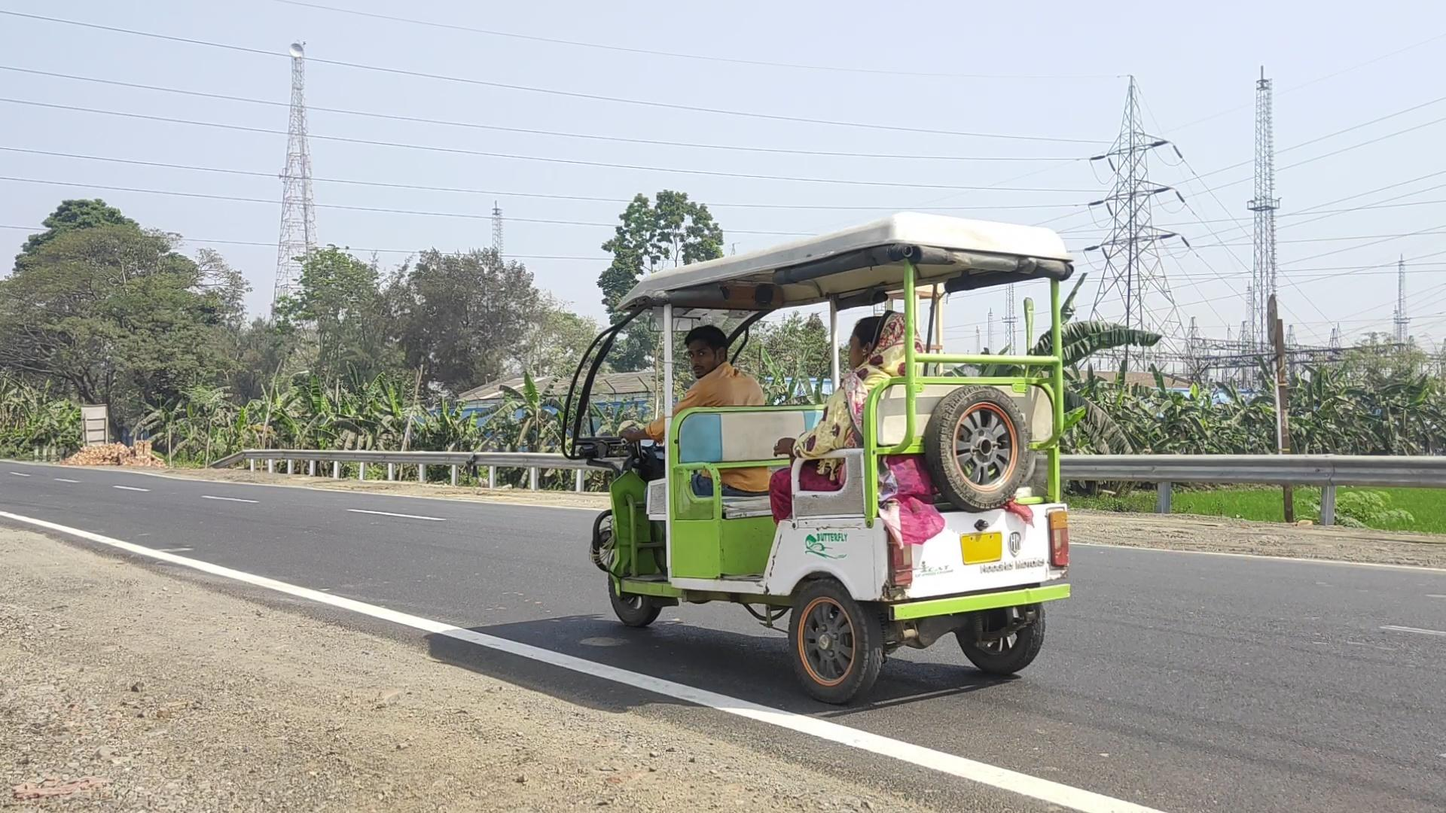Auto: (560, 212, 1074, 704)
